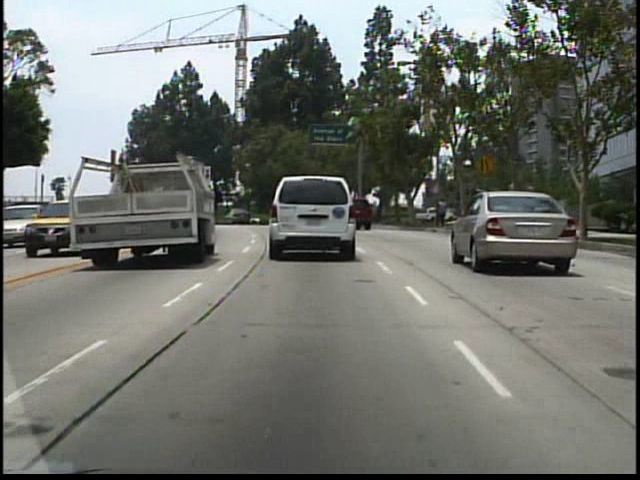person: (435, 194, 451, 233)
